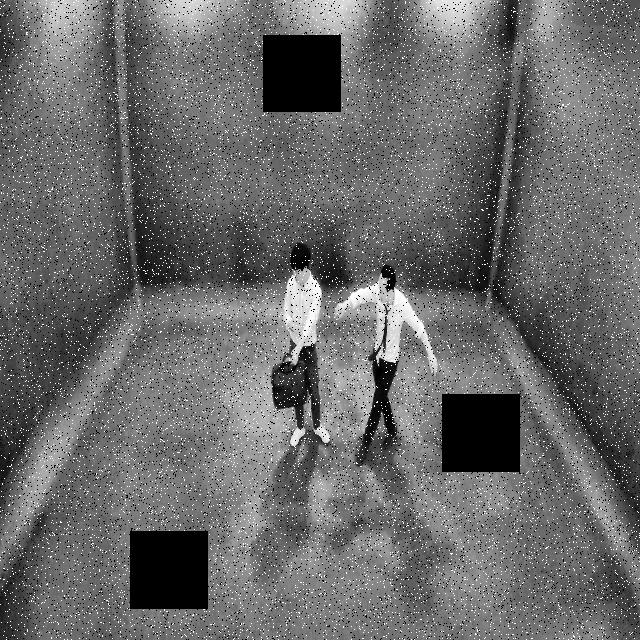assult: (269, 225, 457, 466)
